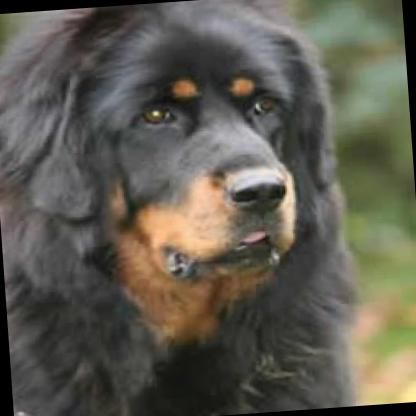Tibetan_mastiff: (0, 0, 359, 416)
